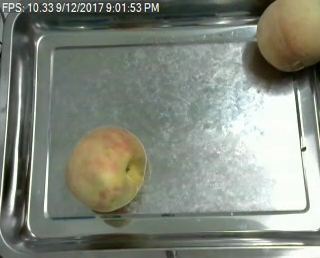Peach: (67, 124, 147, 212), (255, 0, 319, 71)
